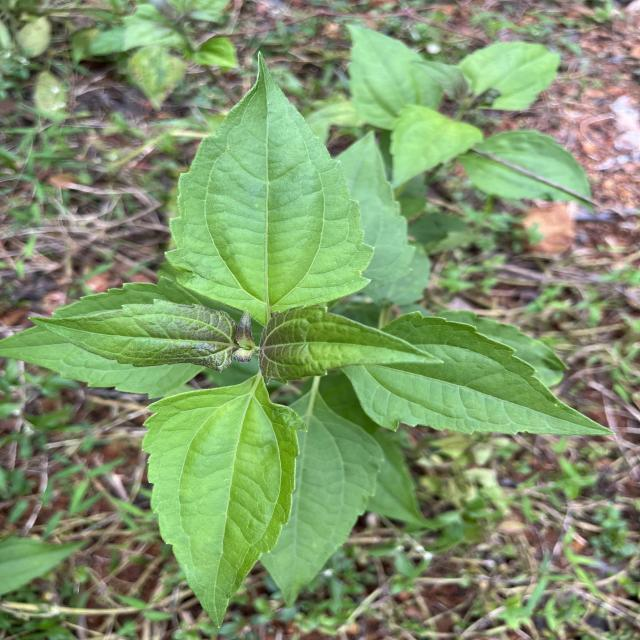Chromolaena odorata: (158, 45, 380, 322), (136, 371, 314, 633), (21, 294, 242, 378)
